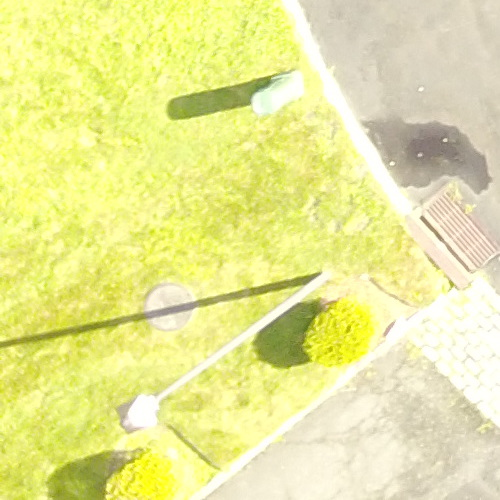grate: (397, 175, 500, 288)
